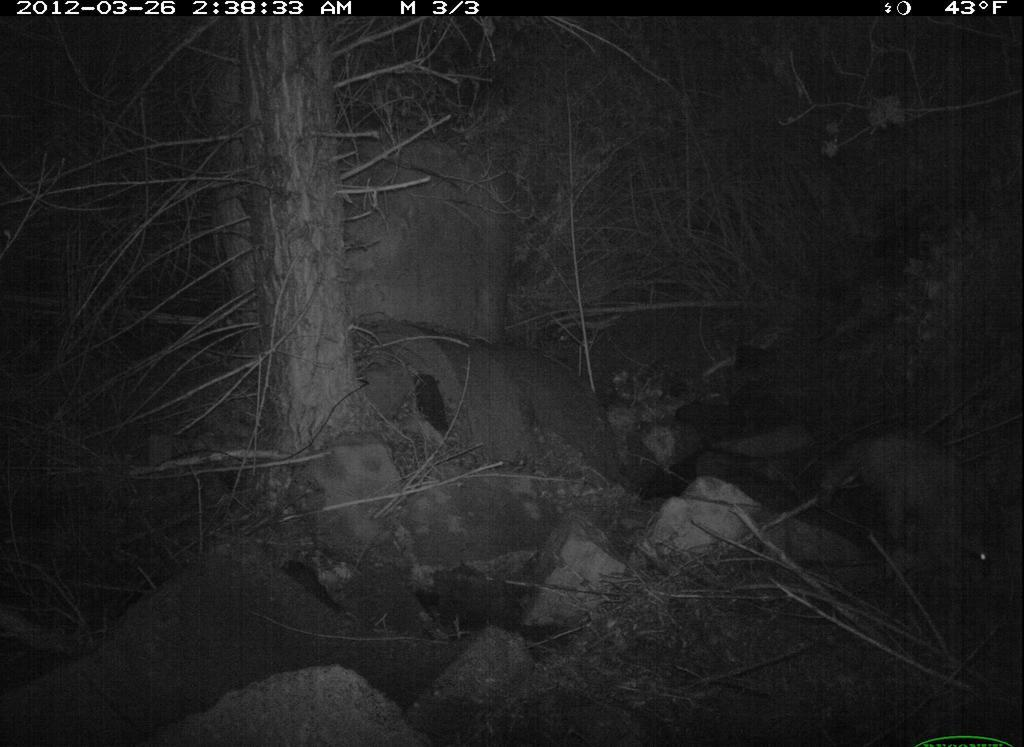raccoon: (821, 423, 1018, 598)
